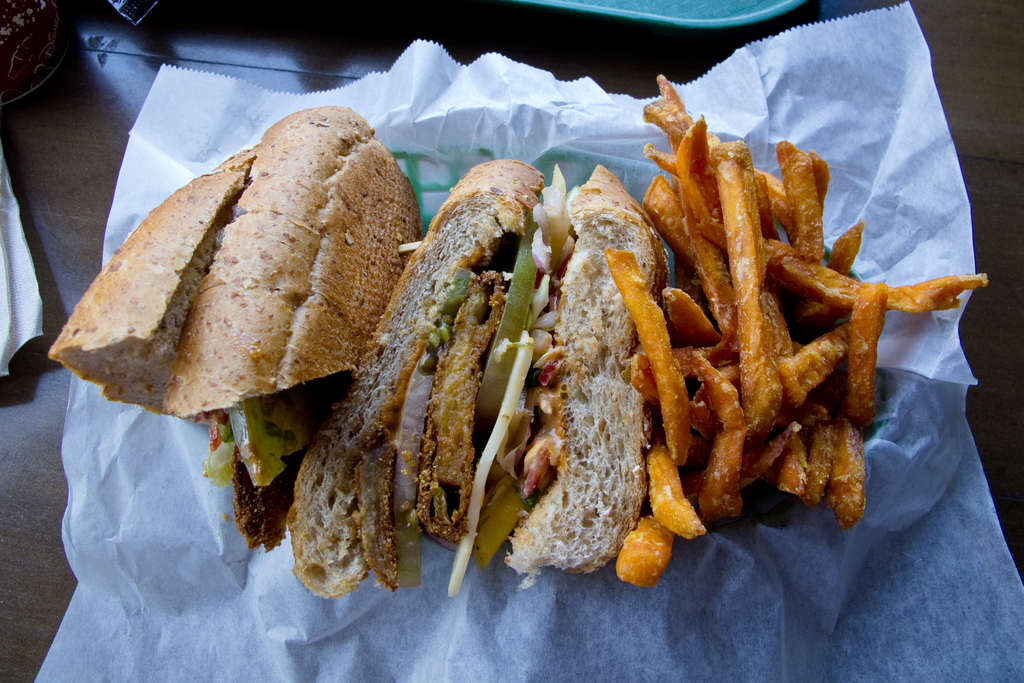French fries: (595, 62, 984, 597)
